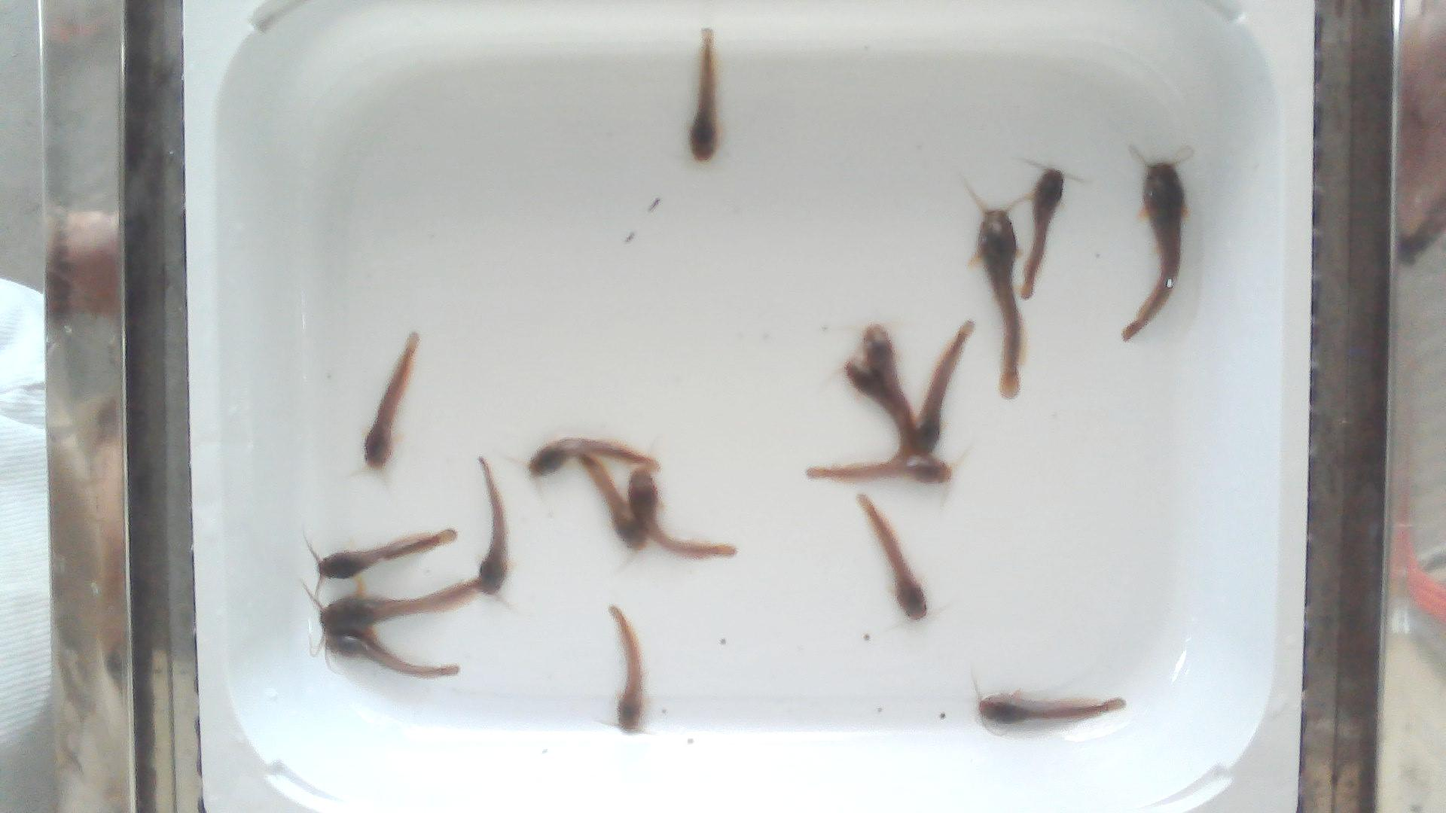lele: (1121, 163, 1185, 340), (627, 467, 736, 562), (906, 318, 977, 456), (973, 203, 1022, 398), (318, 578, 480, 632), (859, 495, 927, 620), (365, 332, 419, 470), (324, 628, 461, 681), (846, 358, 913, 463), (318, 529, 456, 577), (580, 456, 647, 553), (862, 325, 915, 434), (1020, 169, 1064, 299), (527, 437, 662, 477), (802, 452, 952, 485), (609, 605, 645, 730), (978, 693, 1125, 723), (478, 457, 509, 594), (688, 28, 719, 162)
